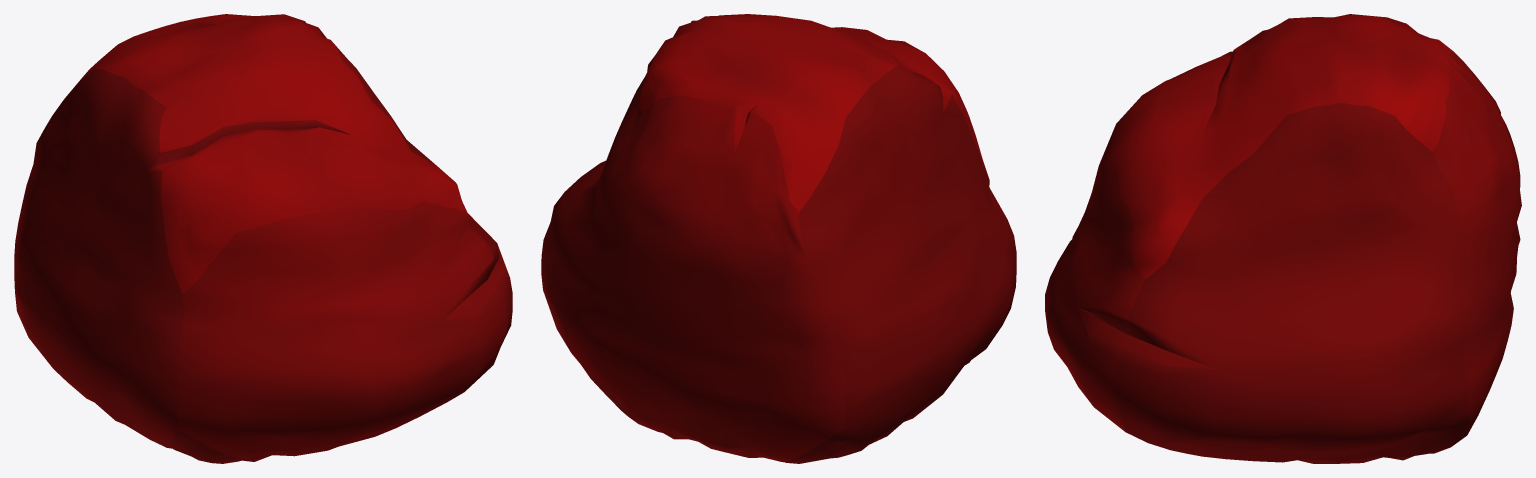
File: geology-rocks-rockhuge_v3.fbx
The picture shows the model from 3 angles, left to right: view 1: azimuth 30°, elevation 25°; view 2: azimuth 150°, elevation 25°; view 3: azimuth 270°, elevation 25°; orthographic projection. The views are drawn at different scales.
Visible parts, largest first — view 1: RockHuge_v3; view 2: RockHuge_v3; view 3: RockHuge_v3.
Part boxes in pixels (x1=…): RockHuge_v3: x1=14, y1=14, x2=512, y2=463; RockHuge_v3: x1=541, y1=14, x2=1016, y2=463; RockHuge_v3: x1=1045, y1=14, x2=1521, y2=463.
Size of the model in its own units: 26.05 by 23.54 by 26.98.
